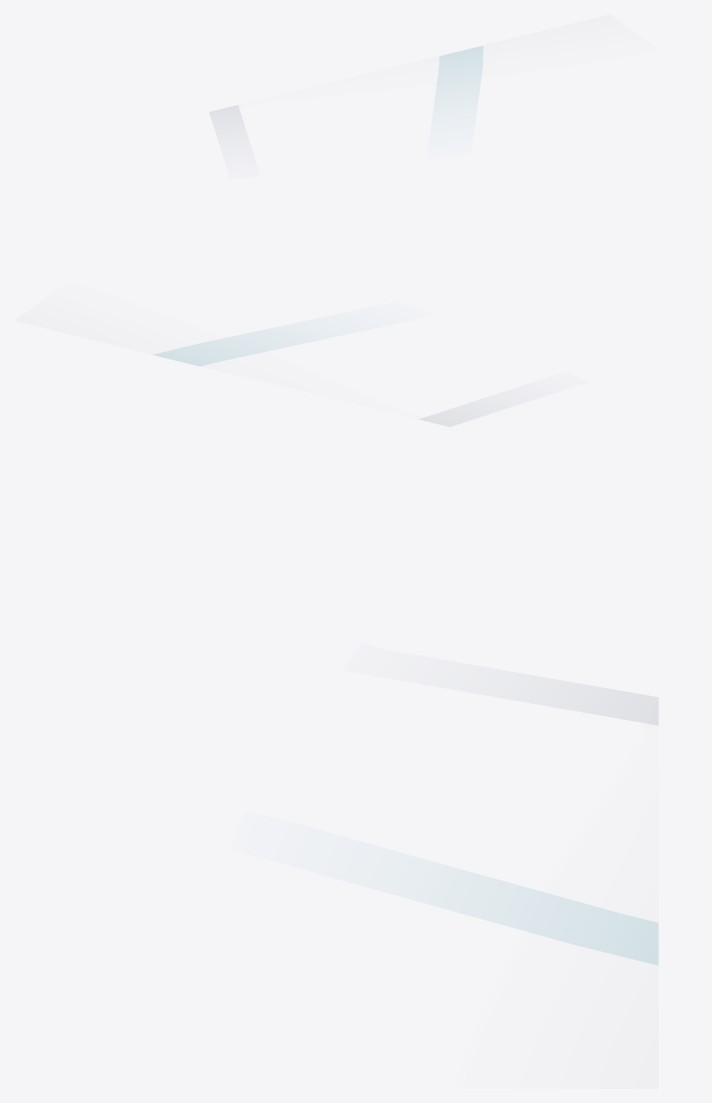
3 renders of one model, top to bottom at view 1: azimuth 30°, elevation 25°; view 2: azimuth 150°, elevation 25°; view 3: azimuth 270°, elevation 25°, orthographic. The views are drawn at different scales.
Visible parts, largest first — view 1: city; view 2: city; view 3: city.
Part boxes in pixels (bbox=[...]): city: bbox=[210, 46, 483, 123]; city: bbox=[153, 331, 473, 426]; city: bbox=[469, 688, 658, 965].
Size of the model in its own units: 376 by 0.4 by 166.
